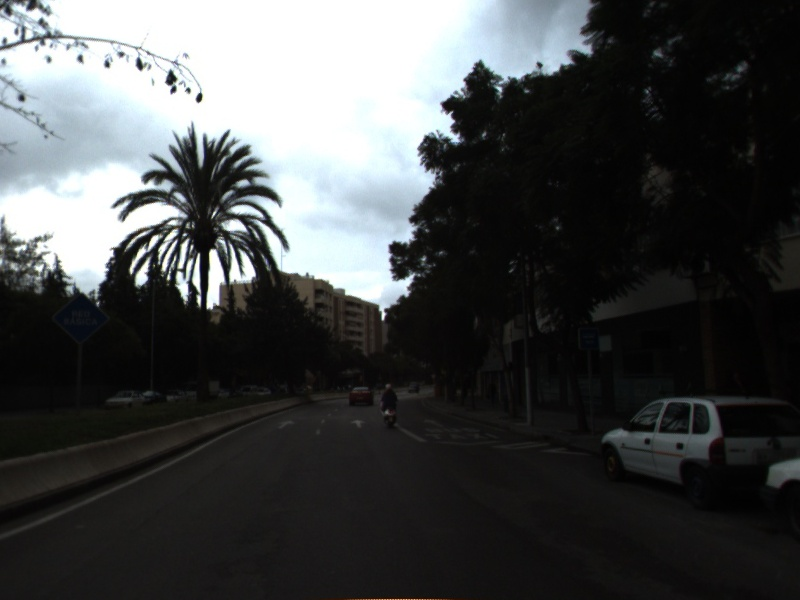STRAIGHT: (421, 417, 445, 429), (275, 418, 297, 431), (348, 417, 368, 430)
